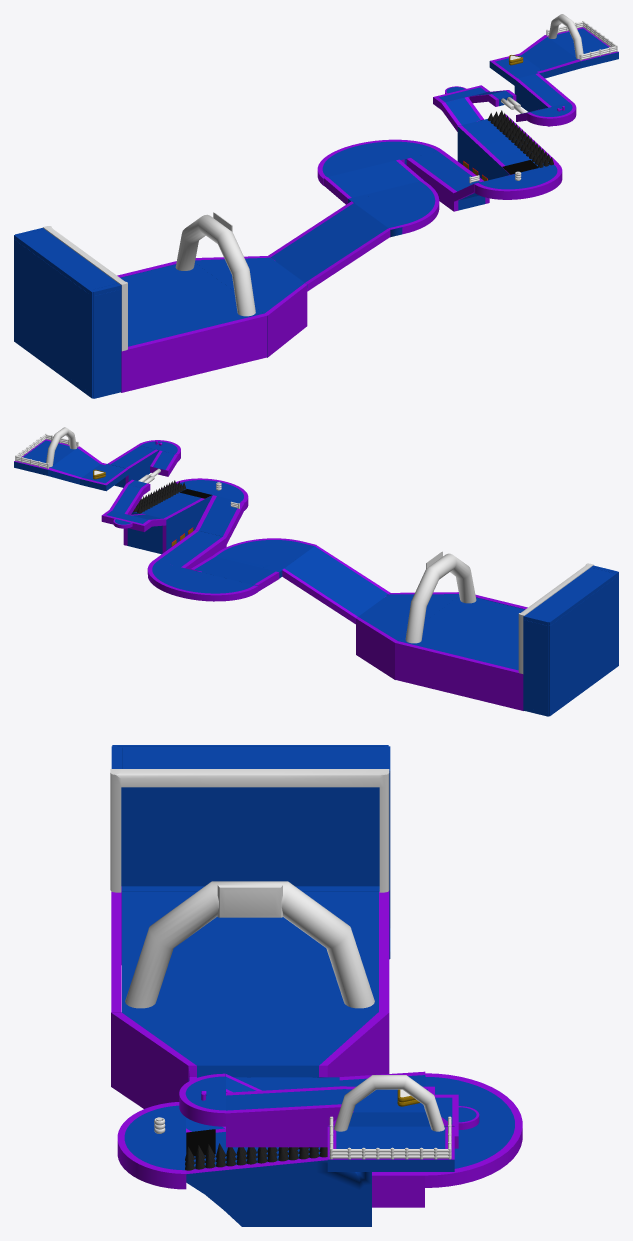
The model's file is newDecor.fbx.
3 views of the same model, one above another, from view 1: azimuth 30°, elevation 25°; view 2: azimuth 150°, elevation 25°; view 3: azimuth 270°, elevation 25° (orthographic). The views are drawn at different scales.
Parts seen in each view (by area): view 1: Floor, Bin, Bow, Cone009, BigWall, Bow002; view 2: Floor, Bin, Bow, Object001, BigWall, Cone009, Bow002; view 3: Floor, Bin, Bow, BigWall, Bow002, Cone009.
Boxes of the visible parts, box(x1,y1,x2,y2) form: Floor: box(117, 27, 618, 392); Bin: box(14, 227, 121, 398); Bow: box(175, 212, 255, 316); Cone009: box(487, 110, 553, 167); BigWall: box(43, 226, 127, 351); Bow002: box(548, 14, 583, 59); Floor: box(14, 439, 527, 710); Bin: box(523, 565, 618, 716); Bow: box(405, 551, 476, 643); Object001: box(195, 495, 244, 544); BigWall: box(518, 563, 593, 673); Cone009: box(133, 480, 186, 513); Bow002: box(46, 427, 76, 467); Floor: box(111, 886, 522, 1226); Bin: box(111, 745, 390, 959); Bow: box(125, 881, 374, 1008); BigWall: box(110, 769, 389, 892); Bow002: box(334, 1075, 444, 1131); Cone009: box(185, 1143, 327, 1170).
Size of the model in its own units: 82156 by 25441 by 28227.
